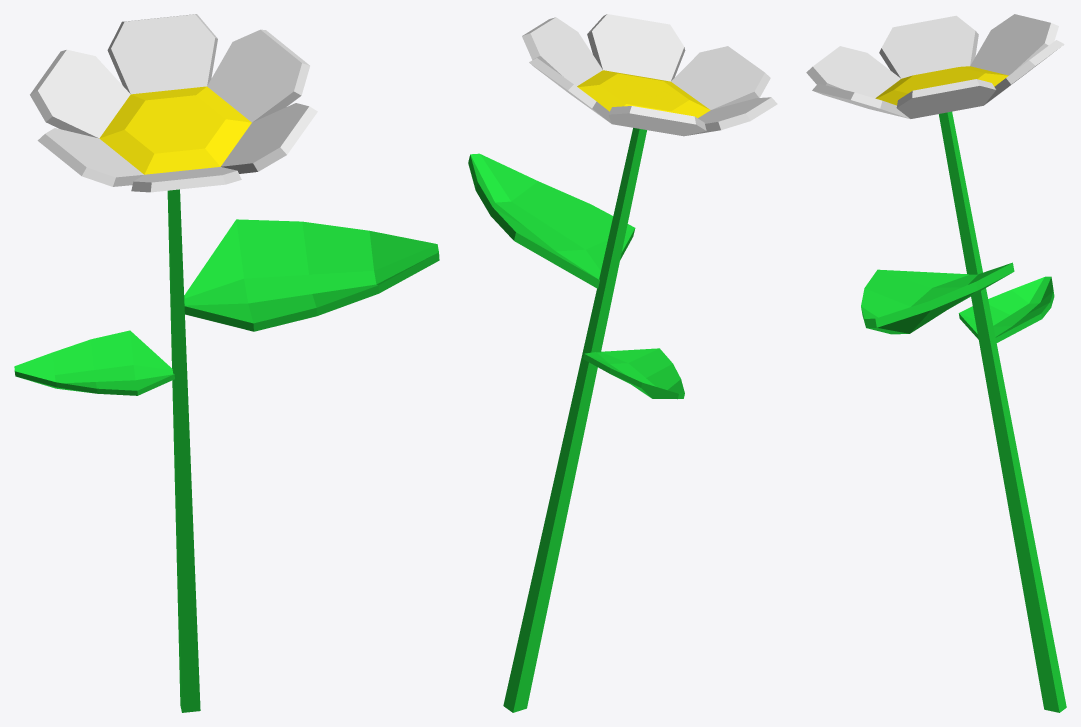
Rendered from flor_simples.fbx.
The picture shows the model from 3 angles, left to right: view 1: azimuth 30°, elevation 25°; view 2: azimuth 150°, elevation 25°; view 3: azimuth 270°, elevation 25°; orthographic projection. The views are drawn at different scales.
Parts seen in each view (by area): view 1: Cubo.198; view 2: Cubo.198; view 3: Cubo.198.
Part boxes in pixels (<box>): Cubo.198: <box>14,14,439,712</box>; Cubo.198: <box>468,14,777,712</box>; Cubo.198: <box>806,14,1066,712</box>.
Size of the model in its own units: 146 by 277 by 102.
